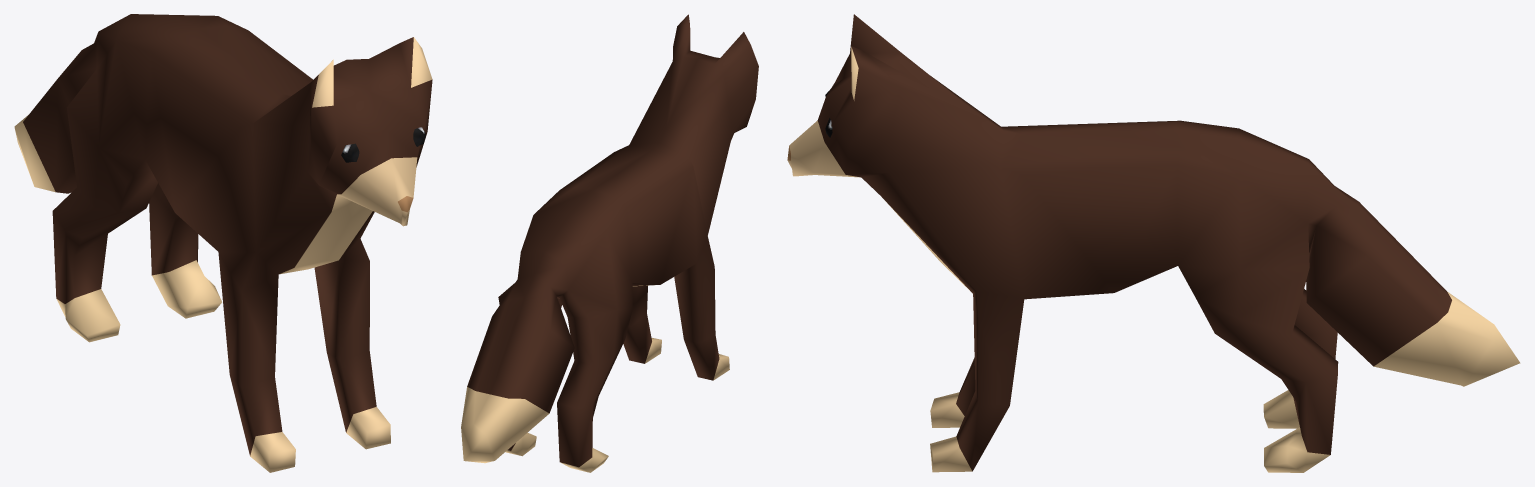
3 renders of one model, left to right at view 1: azimuth 30°, elevation 25°; view 2: azimuth 150°, elevation 25°; view 3: azimuth 270°, elevation 25°, orthographic. The views are drawn at different scales.
Parts seen in each view (by area): view 1: Fox02; view 2: Fox02; view 3: Fox02.
Boxes of the visible parts, left/top/right/bottom form: Fox02: left=14, top=14, right=432, bottom=472; Fox02: left=461, top=14, right=758, bottom=472; Fox02: left=787, top=14, right=1520, bottom=472.
Size of what is drawn, in the model's own units: 0.2887 by 0.828 by 1.32.
1 material, 1 textured.
